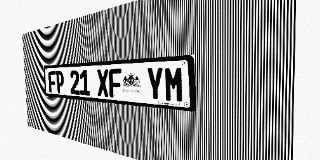1: (79, 70, 90, 96)
2: (70, 70, 80, 95)
F: (109, 68, 122, 98), (48, 71, 56, 93)
M: (164, 66, 184, 103)
P: (55, 71, 64, 93)
X: (97, 69, 109, 97)
Y: (146, 67, 164, 101)
